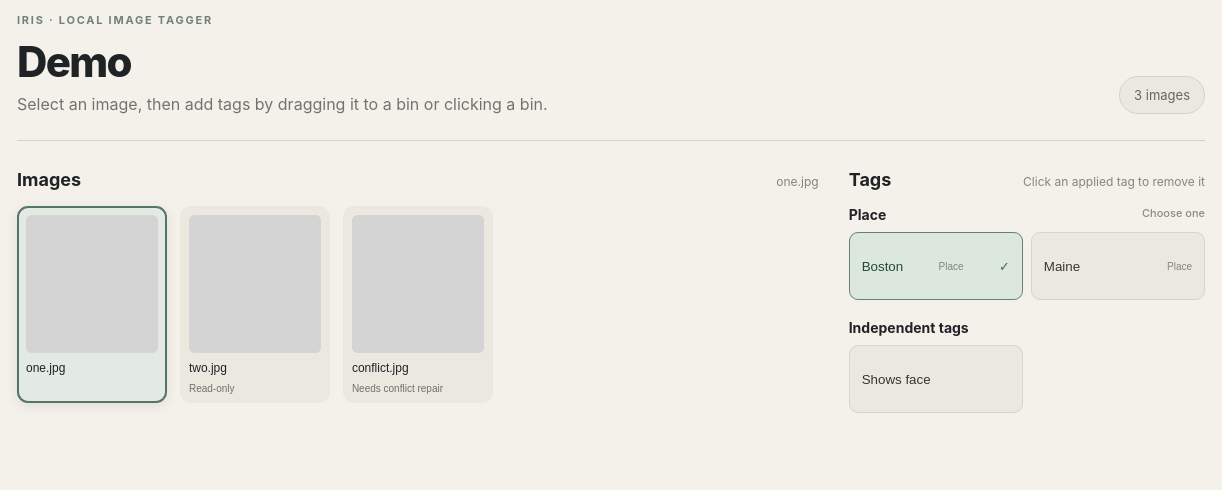
TaggingWorkspace › removes an applied tag and retains confirmed state on update failure
The image size is (1222, 490).
Click the button "Boston Place ✓" at (936, 266), box [849, 232, 1023, 300]
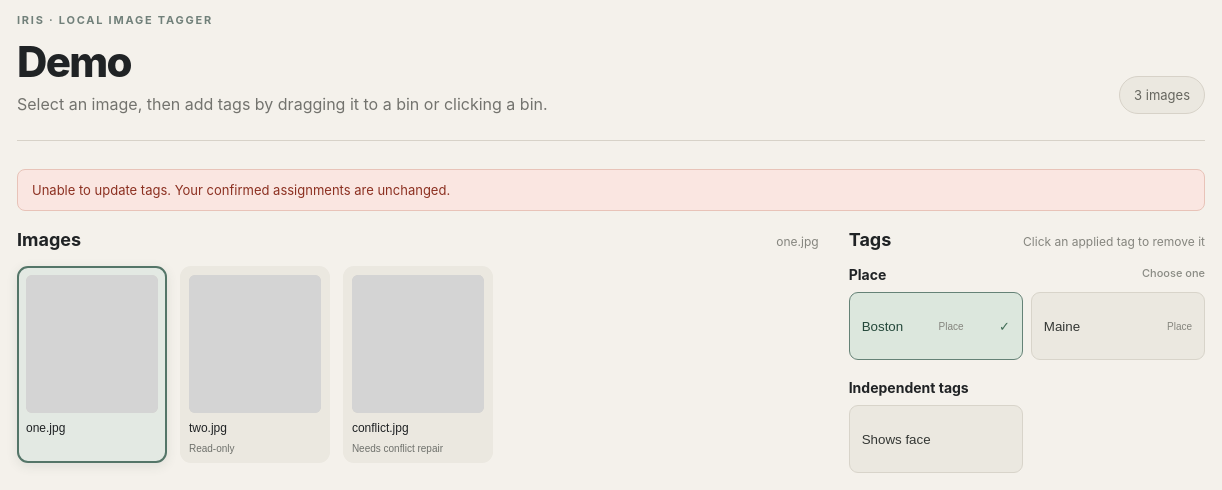
Check: the text "Needs conflict repair" is shown, box [352, 443, 443, 454]
Check: the message shows "Unable to update", box [32, 182, 450, 198]
